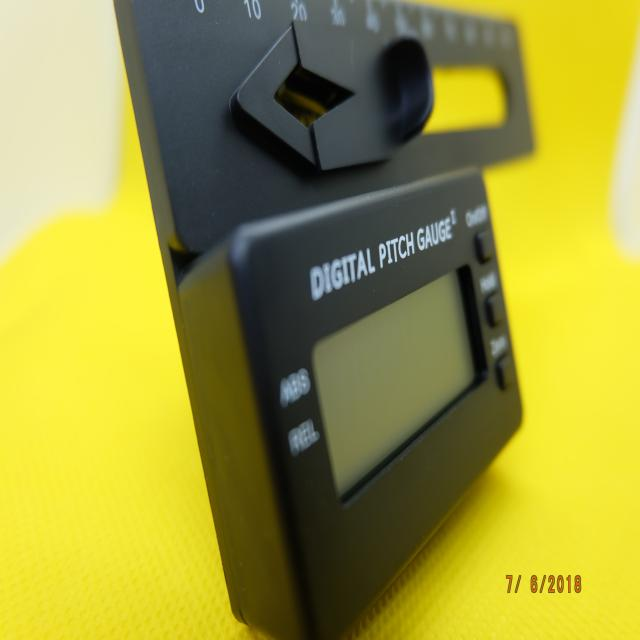display: (310, 259, 490, 502)
gauge: (113, 0, 536, 640)
